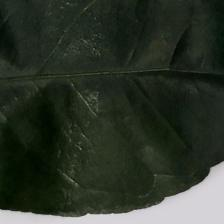healthy: (3, 3, 222, 214)
